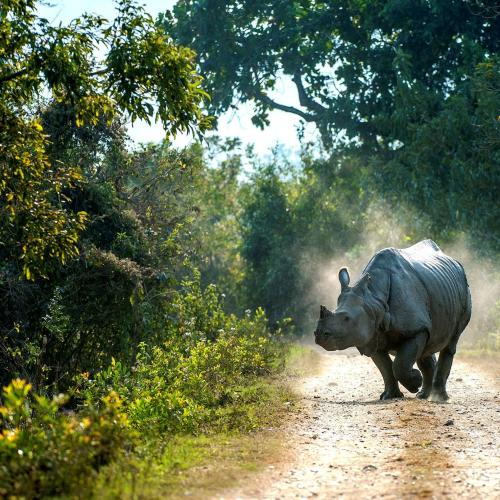rhino-endangered: (308, 230, 481, 410)
